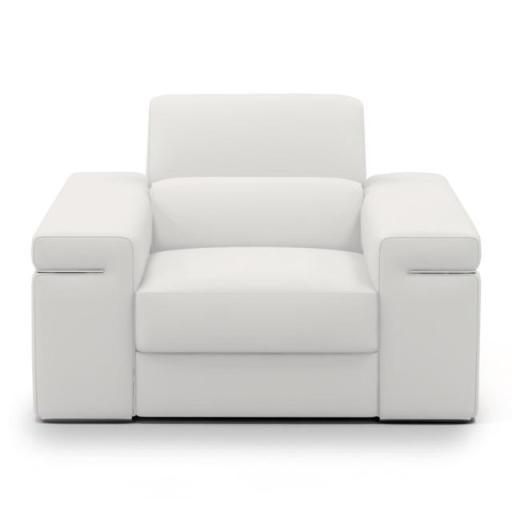sofa: (30, 63, 500, 455)
